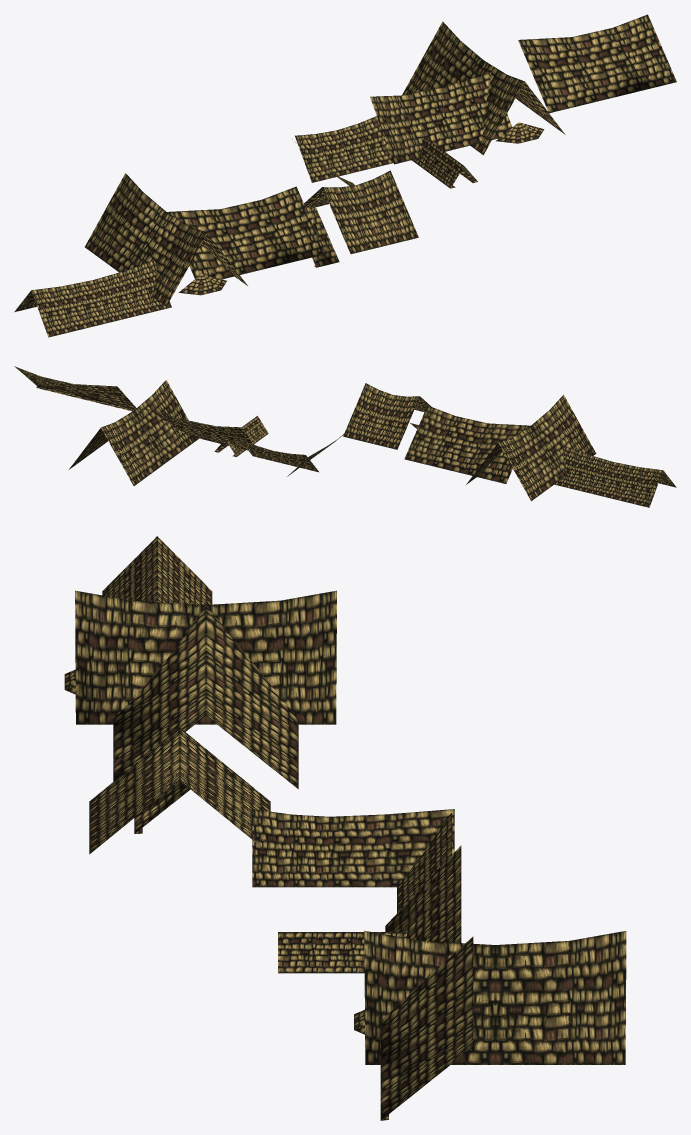
Rendered from LAKETOWN_EXTERIOR_PS_LT_ROOFTOPS2824.fbx.
3 renders of one model, top to bottom at view 1: azimuth 30°, elevation 25°; view 2: azimuth 150°, elevation 25°; view 3: azimuth 270°, elevation 25°, orthographic. The views are drawn at different scales.
Parts seen in each view (by area): view 1: LAKETOWN_EXTERIOR_PS_LT_ROOFTOPS2824; view 2: LAKETOWN_EXTERIOR_PS_LT_ROOFTOPS2824; view 3: LAKETOWN_EXTERIOR_PS_LT_ROOFTOPS2824.
Boxes of the visible parts, box(x1,y1,x2,y2) form: LAKETOWN_EXTERIOR_PS_LT_ROOFTOPS2824: box(14, 14, 676, 337); LAKETOWN_EXTERIOR_PS_LT_ROOFTOPS2824: box(14, 366, 676, 507); LAKETOWN_EXTERIOR_PS_LT_ROOFTOPS2824: box(64, 536, 626, 1120).
Bounding box in the file's own units: 516246 × 54715 × 220292.
Materials: 1 (1 with a texture image).
